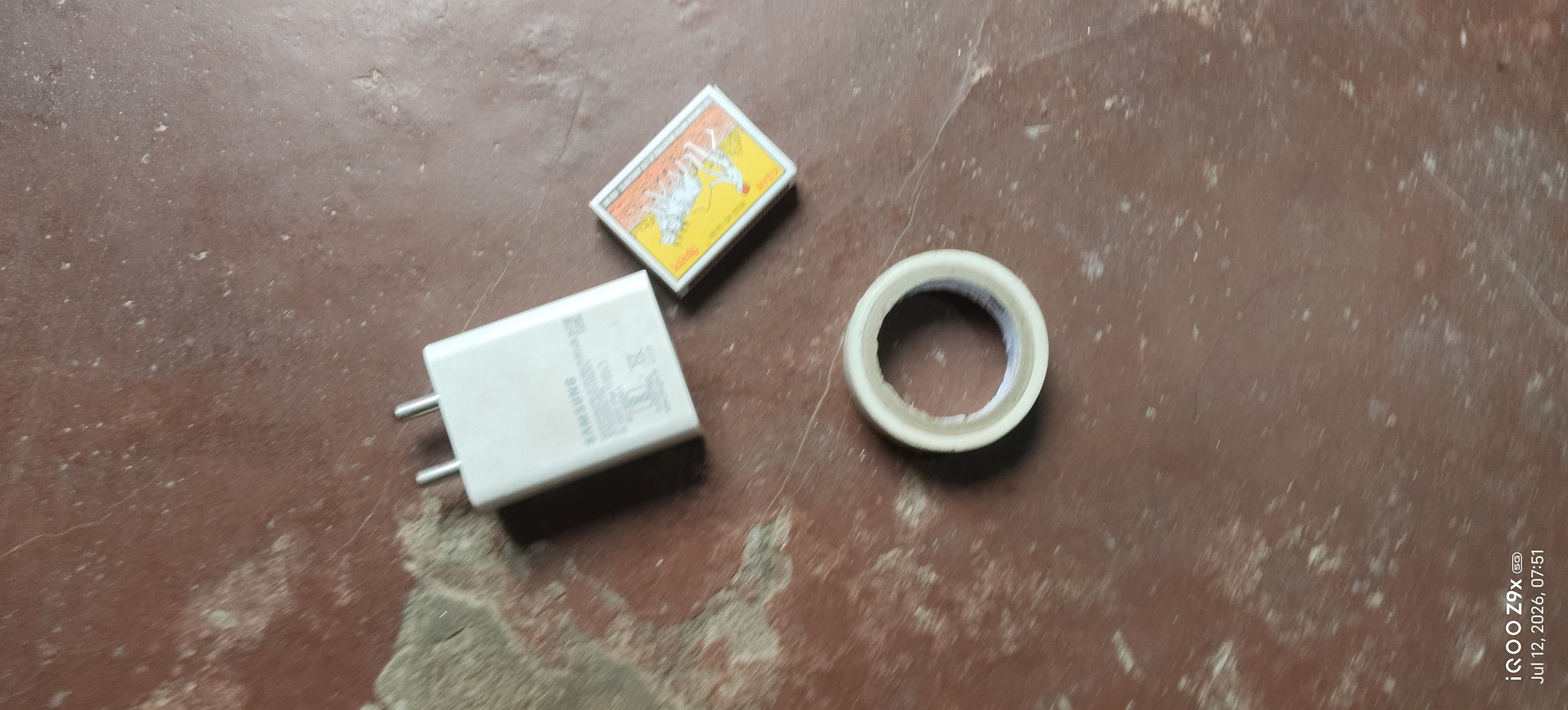charger: (360, 251, 722, 554)
matchbox: (566, 64, 831, 317)
tape_roll: (824, 237, 1080, 495)
